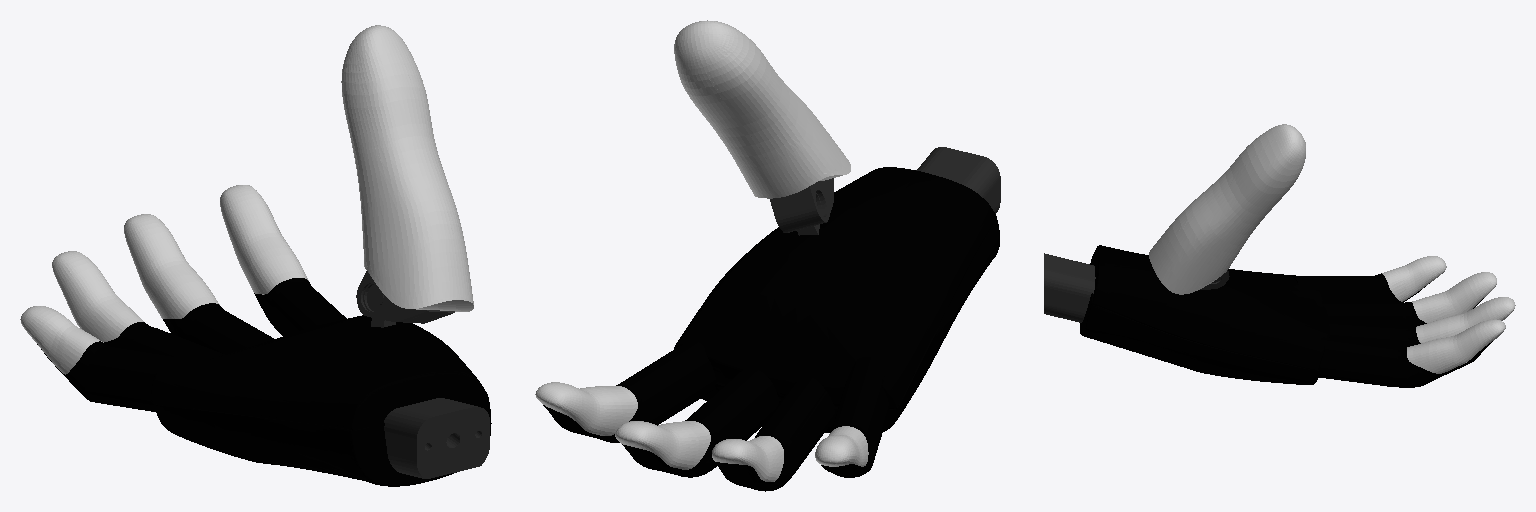
URDF robot description (mia_hand):
<?xml version="1.0"?>
<!-- created with Phobos 1.0.1 "Capricious Choutengan" -->
  <!-- model version="4.4.2"-->


  <robot xmlns:xacro="http://wiki.ros.org/xacro" name="mia_hand"
  xmlns:sensor="http://playerstage.sourceforge.net/gazebo/xmlschema/#sensor"
  xmlns:controller="http://playerstage.sourceforge.net/gazebo/xmlschema/#controller"
  xmlns:joint="http://playerstage.sourceforge.net/gazebo/xmlschema/#slider"
  xmlns:interface="http://playerstage.sourceforge.net/gazebo/xmlschema/#interface"
  xmlns:body="http://playerstage.sourceforge.net/gazebo/xmlschema/#body"
  xmlns:geom="http://playerstage.sourceforge.net/gazebo/xmlschema/#geom">


    <link name="index_fle">
      <inertial>
        <origin xyz="0 0 0" rpy="0 0 0"/>
        <mass value="0.01113"/>
        <inertia ixx="1.40e-06" ixy="1.58e-08" ixz="0" iyy="1.97e-07" iyz="2.27e-10" izz="1.36e-06"/>
      </inertial>
      <collision name="collision_index_pre_sensor">
        <origin xyz="0.000159719 0.023606986 0.001508433" rpy="1.611356378 -1.479902387 -0.009164433"/>
        <geometry>
          <cylinder radius="0.007128498" length="0.016970539"/>
        </geometry>
      </collision>
    </link>

    <link name="index_sensor">
      <inertial>
        <origin xyz="0 0 0" rpy="0 0 0"/>
        <mass value="0.01765"/>
        <inertia ixx="2.07e-05" ixy="4.28e-06" ixz="7.05e-09" iyy="1.71e-06" iyz="-5.40e-09" izz="2.19e-05"/>
      </inertial>
      <visual >
        <origin xyz="-0.016737008 -0.126896188 -0.051269896" rpy="0.457628608 -1.375251532 0.776470125"/>
        <geometry>
          <mesh filename="package://mia_hand_description/meshes/stl/index_finger.stl" scale="0.000999987 0.000999987 0.000999987"/>
        </geometry>
        <material name="BLACK"/>
      </visual>
      <visual >
        <origin xyz="-0.016737008 -0.126896188 -0.051269896" rpy="0.457628608 -1.375251532 0.776470125"/>
        <geometry>
          <mesh filename="package://mia_hand_description/meshes/stl/index_tip.stl" scale="0.000999987 0.000999987 0.000999987"/>
        </geometry>
        <material name="WHITE"/>
      </visual>
      <collision name="collision_index_distal">
        <origin xyz="-0.001899783 0.0412638 0.001381427" rpy="1.826135755 -1.502358675 0.115027599"/>
        <geometry>
          <cylinder radius="0.007957385" length="0.030371133"/>
        </geometry>
      </collision>
      <collision name="collision_index_post_sensor">
        <origin xyz="0.00270223 0.014599754 0.001277816" rpy="1.307256699 -1.502358675 0.115027107"/>
        <geometry>
          <cylinder radius="0.007128498" length="0.014262123"/>
        </geometry>
      </collision>
      <collision name="collision_index_tip">
        <origin xyz="-0.010449275 0.059659205 0.000670571" rpy="-0.714037061 -1.367512941 1.09491086"/>
        <geometry>
          <sphere radius="0.006627175"/>
        </geometry>
      </collision>
    </link>

    <link name="little_fle">
      <inertial>
        <origin xyz="-0.00155 0.020800009 -3.5793e-05" rpy="0 0 0"/>
        <mass value="0.0207"/>
        <inertia ixx="7.686e-06" ixy="0" ixz="0" iyy="6.52e-07" iyz="0" izz="7.9e-06"/>
      </inertial>
      <visual >
        <origin xyz="0.021798987 -0.079884358 -0.042128358" rpy="-0.088661931 -1.918641925 1.604480386"/>
        <geometry>
          <mesh filename="package://mia_hand_description/meshes/stl/little_finger.stl" scale="0.000999987 0.000999987 0.000999987"/>
        </geometry>
        <material name="BLACK"/>
      </visual>
      <visual >
        <origin xyz="0.021798987 -0.079884358 -0.042128358" rpy="-0.088661931 -1.918641925 1.604480386"/>
        <geometry>
          <mesh filename="package://mia_hand_description/meshes/stl/little_tip.stl" scale="0.000999987 0.000999987 0.000999987"/>
        </geometry>
        <material name="WHITE"/>
      </visual>
      <collision name="collision_little_distal">
        <origin xyz="-0.009071616 0.052363321 0.000405859" rpy="2.012047291 -1.547703743 0.014830198"/>
        <geometry>
          <cylinder radius="0.007603541" length="0.029933602"/>
        </geometry>
      </collision>
      <collision name="collision_little_proximal">
        <origin xyz="-0.001978738 0.027301736 -4.4674e-05" rpy="1.639323592 -1.540506959 -0.010816745"/>
        <geometry>
          <cylinder radius="0.007827824" length="0.030442052"/>
        </geometry>
      </collision>
      <collision name="collision_little_tip">
        <origin xyz="-0.016595591 0.064731956 -0.000363789" rpy="-1.135860085 -1.918640018 1.561329722"/>
        <geometry>
          <sphere radius="0.00484472"/>
        </geometry>
      </collision>
    </link>

    <link name="middle_fle">
      <inertial>
        <origin xyz="0 0 0" rpy="0 0 0"/>
        <mass value="0.0121"/>
        <inertia ixx="1.42e-06" ixy="-1.06e-08" ixz="2.02e-12" iyy="1.98e-07" iyz="2.27e-11" izz="1.3e-06"/>
      </inertial>
      <collision name="collision_middle_pre_sensor">
        <origin xyz="5.4862e-05 0.02009861 0.000735957" rpy="1.572342396 -1.570796132 0"/>
        <geometry>
          <cylinder radius="0.006834491" length="0.01782351"/>
        </geometry>
      </collision>
    </link>

    <link name="middle_sensor">
      <inertial>
        <origin xyz="0 0 0" rpy="0 0 0"/>
        <mass value="0.0177"/>
        <inertia ixx="2.07e-05" ixy="4.28e-06" ixz="7.05e-09" iyy="1.71e-06" iyz="-5.40e-08" izz="2.19e-05"/>
      </inertial>
      <visual>
        <origin xyz="0.007670809 -0.12344341 -0.045150004" rpy="1.396263361 -1.570796371 0"/>
        <geometry>
          <mesh filename="package://mia_hand_description/meshes/stl/middle_finger.stl" scale="0.000999987 0.000999987 0.000999987"/>
        </geometry>
        <material name="BLACK"/>
      </visual>
      <visual >
        <origin xyz="0.007670809 -0.12344341 -0.045150004" rpy="1.396263361 -1.570796371 0"/>
        <geometry>
          <mesh filename="package://mia_hand_description/meshes/stl/middle_tip.stl" scale="0.000999987 0.000999987 0.000999987"/>
        </geometry>
        <material name="WHITE"/>
      </visual>
      <collision name="collision_middle_distal">
        <origin xyz="-0.008653791 0.039425109 0.000735376" rpy="2.091221809 -1.570796371 0"/>
        <geometry>
          <cylinder radius="0.008127632" length="0.038238756"/>
        </geometry>
      </collision>
      <collision name="collision_middle_post_sensor">
        <origin xyz="-0.000414368 0.010920909 0.000735376" rpy="1.572342396 -1.570796371 0"/>
        <geometry>
          <cylinder radius="0.00683449" length="0.011829435"/>
        </geometry>
      </collision>
      <collision name="collision_middle_tip">
        <origin xyz="-0.020539736 0.056403738 0.000735376" rpy="0.525144994 -1.570796371 0"/>
        <geometry>
          <sphere radius="0.005627529"/>
        </geometry>
      </collision>
    </link>

    <link name="palm">
      <inertial>
        <origin xyz="0.00268 0.067100011 -0.015999995" rpy="0 0 0"/>
        <mass value="0.273999989"/>
        <inertia ixx="0.000301" ixy="0" ixz="0" iyy="0.00013" iyz="0" izz="0.000343"/>
      </inertial>
      <visual >
        <origin xyz="0.003035236 0.075372033 -0.025204176" rpy="-0.261799425 0 0"/>
        <geometry>
          <mesh filename="package://mia_hand_description/meshes/stl/dorsum_simple.stl" scale="0.076673768 0.104274787 0.076673768"/>
        </geometry>
        <material name="BLACK"/>
      </visual>
      <visual >
        <origin xyz="0.003800225 0.065974504 -0.012054901" rpy="-0.261799335 0 0"/>
        <geometry>
          <mesh filename="package://mia_hand_description/meshes/stl/palm_simple.stl" scale="0.122026987 0.122026987 0.122026987"/>
        </geometry>
        <material name="BLACK"/>
      </visual>
      <visual >
        <origin xyz="-0.039999999 0.015274569 -0.023892667" rpy="1.308997035 0 0"/>
        <geometry>
          <mesh filename="package://mia_hand_description/meshes/stl/wrist.stl" scale="0.000999999 0.000999999 0.000999999"/>
        </geometry>
        <material name="GREY"/>
      </visual>
      <collision name="collision_hand_distal">
        <origin xyz="0.000396326 0.095129304 -0.021126958" rpy="-0.260977566 0.024364362 0.046443645"/>
        <geometry>
          <box size="0.072641067 0.047533765 0.033261035"/>
        </geometry>
      </collision>
      <collision name="collision_hand_proximal">
        <origin xyz="0.001288421 0.04622658 -0.005689064" rpy="-0.265261889 -0.179528236 0.101421639"/>
        <geometry>
          <box size="0.062414549 0.056382477 0.028578509"/>
        </geometry>
      </collision>
    </link>

    <!-- end effector -->
    <link name="hand_ee_link">
      <inertial>
        <mass value="0.0"/>
        <origin rpy="0 0 0" xyz="0 0 0"/>
        <inertia ixx="0.0" ixy="0.0" ixz="0.0" iyy="0.0" iyz="0.0" izz="0.0"/>
      </inertial>
    </link>

    <joint name="palm_to_hand_ee_link" type="fixed">
        <origin xyz="0 0.13 0.03" rpy="-0.65 0 0"/>
      <parent link="palm"/>
      <child link="hand_ee_link"/>
    </joint>

    <link name="ring_fle">
      <inertial>
        <origin xyz="-0.001120002 0.026399991 0.000203993" rpy="0 0 0"/>
        <mass value="0.0263"/>
        <inertia ixx="1.577e-05" ixy="0" ixz="0" iyy="9.02e-07" iyz="0" izz="1.61e-05"/>
      </inertial>
      <visual >
        <origin xyz="0.01104607 -0.090066954 -0.043558836" rpy="1.65e-07 -1.745330095 1.413716316"/>
        <geometry>
          <mesh filename="package://mia_hand_description/meshes/stl/ring_finger.stl" scale="0.000999987 0.000999987 0.000999987"/>
        </geometry>
        <material name="BLACK"/>
      </visual>
      <visual >
        <origin xyz="0.01104607 -0.090066954 -0.043558836" rpy="1.65e-07 -1.745330095 1.413716316"/>
        <geometry>
          <mesh filename="package://mia_hand_description/meshes/stl/ring_tip.stl" scale="0.000999987 0.000999987 0.000999987"/>
        </geometry>
        <material name="WHITE"/>
      </visual>
      <collision name="collision_ring_distal">
        <origin xyz="-0.008521391 0.063275322 0.000219088" rpy="2.099160433 -1.578026533 0.020510485"/>
        <geometry>
          <cylinder radius="0.00760354" length="0.029933617"/>
        </geometry>
      </collision>
      <collision name="collision_ring_proximal">
        <origin xyz="0.001186912 0.028925091 0.000219103" rpy="1.570796132 -1.570796251 0"/>
        <geometry>
          <cylinder radius="0.007827824" length="0.03682825"/>
        </geometry>
      </collision>
      <collision name="collision_ring_tip">
        <origin xyz="-0.018231211 0.076642096 -0.000189718" rpy="-1.047197104 -1.745329261 1.570796132"/>
        <geometry>
          <sphere radius="0.004873112"/>
        </geometry>
      </collision>
    </link>

    <link name="thumb_fle">
      <inertial>
        <origin xyz="0.012771533 0.029501937 0.000170548" rpy="0 0 0"/>
        <mass value="0.0592"/>
        <inertia ixx="4e-05" ixy="1.3e-08" ixz="0" iyy="3e-06" iyz="4e-09" izz="4.1e-05"/>
      </inertial>
      <visual >
        <origin xyz="-0.003567816 -0.07197547 0.054485805" rpy="0.62849319 1.087863922 0.258483142"/>
        <geometry>
          <mesh filename="package://mia_hand_description/meshes/stl/thumb_cover.stl" scale="0.000999988 0.000999987 0.000999987"/>
        </geometry>
        <material name="WHITE"/>
      </visual>
      <visual >
        <origin xyz="-0.003567816 -0.07197547 0.054485805" rpy="0.62849319 1.087863922 0.258483142"/>
        <geometry>
          <mesh filename="package://mia_hand_description/meshes/stl/thumb_frame.stl" scale="0.000999988 0.000999987 0.000999987"/>
        </geometry>
        <material name="GREY"/>
      </visual>
      <collision name="collision_thumb_distal">
        <origin xyz="0.015668914 0.047384627 0.001403906" rpy="1.470562816 0.195132375 -0.047180746"/>
        <geometry>
          <cylinder radius="0.011694114" length="0.055018328"/>
        </geometry>
      </collision>
      <collision name="collision_thumb_proximal">
        <origin xyz="0.015613321 0.032607533 6.2179e-05" rpy="1.543844342 0.23866643 -0.080058314"/>
        <geometry>
          <cylinder radius="0.012714386" length="0.059818495"/>
        </geometry>
      </collision>
      <collision name="collision_thumb_tip">
        <origin xyz="0.015702201 0.069964014 -0.00075977" rpy="-0.3828291 0.583412647 0.648222387"/>
        <geometry>
          <sphere radius="0.010514786"/>
        </geometry>
      </collision>
    </link>

    <link name="thumb_opp">
      <inertial>
        <origin xyz="0.00026099 0.007620003 0.001220003" rpy="0 0 0"/>
        <mass value="0.013"/>
        <inertia ixx="1.12e-06" ixy="0" ixz="0" iyy="1.2e-07" iyz="0" izz="1.15e-06"/>
      </inertial>
      <visual >
        <origin xyz="-0.054523792 -0.04869514 0.027307283" rpy="-0.128456295 -0.364075422 0.324456483"/>
        <geometry>
          <mesh filename="package://mia_hand_description/meshes/stl/thumb_metacarpus.stl" scale="0.000999987 0.000999987 0.000999987"/>
        </geometry>
        <material name="GREY"/>
      </visual>
    </link>

    <link name="thumb_sensor">
      <inertial>
        <origin xyz="-1.5e-08 -9e-09 -4e-09" rpy="0 0 0"/>
        <mass value="0.000643"/>
        <inertia ixx="1.5e-08" ixy="0" ixz="0" iyy="8e-09" iyz="0" izz="1.5e-08"/>
      </inertial>
    </link>

    <joint name="j_index_fle" type="revolute">
      <origin xyz="0.026305504 0.11021702 -0.021520771" rpy="-0.596919358 1.415553689 -0.749806523"/>
      <parent link="palm"/>
      <child link="index_fle"/>
      <dynamics damping="0.1"/>
      <axis xyz="-6e-08 1.7e-08 0.99999994"/>
      <limit lower="-1.399999976" upper="1.399999976" effort="1.75" velocity="3.140000105"/>
    </joint>

    <joint name="j_index_sensor" type="fixed">
      <origin xyz="-0.000399255 0.024237007 -0.000183955" rpy="0.000630725 -0.000209123 0.172082633"/>
      <parent link="index_fle"/>
      <child link="index_sensor"/>
    </joint>

    <joint name="j_little_fle" type="revolute">
      <origin xyz="-0.027859999 0.107325219 -0.020605115" rpy="1.278342605 1.775918841 1.627186179"/>
      <parent link="palm"/>
      <child link="little_fle"/>
      <dynamics damping="0.1"/>
      <axis xyz="-6e-08 1.7e-08 1.0"/>
      <limit lower="0" upper="1.396260023" effort="1.75" velocity="3.140000105"/>
      <mimic joint="j_mrl_fle" multiplier="1" offset="0" /> <!-- to be manually added for Rviz -->
    </joint>

    <joint name="j_mrl_fle" type="revolute">
      <origin xyz="0.00514942 0.113555029 -0.024345273" rpy="-1.570794106 1.483529925 -1.570793986"/>
      <parent link="palm"/>
      <child link="middle_fle"/>
      <dynamics damping="0.1"/>
      <axis xyz="-6e-08 1.7e-08 0.99999994"/>
      <limit lower="0" upper="1.396260023" effort="1.75" velocity="3.140000105"/>
    </joint>

    <joint name="j_middle_sensor" type="fixed">
      <origin xyz="0.000444004 0.025497464 5.81e-07" rpy="1.8e-08 2.07e-07 -3e-08"/>
      <parent link="middle_fle"/>
      <child link="middle_sensor"/>
    </joint>

    <joint name="j_ring_fle" type="revolute">
      <origin xyz="-0.012250358 0.112028912 -0.023936352" rpy="1.150808096 1.681244493 1.321779966"/>
      <parent link="palm"/>
      <child link="ring_fle"/>
      <dynamics damping="0.1"/>
      <axis xyz="-6e-08 1.7e-08 1.0"/>
      <limit lower="0" upper="1.396260023" effort="1.75" velocity="3.140000105"/>
      <mimic joint="j_mrl_fle" multiplier="1" offset="0" /> <!-- to be manually added for Rviz -->
    </joint>

    <joint name="j_thumb_fle" type="revolute">
      <origin xyz="-2.7426e-05 -1.0543e-05 -0.008989788" rpy="-1.570910335 0.438224047 1.570665002"/>
      <parent link="thumb_sensor"/>
      <child link="thumb_fle"/>
      <dynamics damping="0.1"/>
      <axis xyz="-6e-08 1.7e-08 1.0"/>
      <limit lower="0" upper="1.134500027" effort="3.5" velocity="1.570000052"/>
    </joint>

    <joint name="j_thumb_opp" type="revolute">
      <origin xyz="0.013073999 0.068108179 -0.001949422" rpy="1.43719089 0.369162768 0.318591952"/>
      <parent link="palm"/>
      <child link="thumb_opp"/>
      <dynamics damping="0.2"/>
      <axis xyz="-6e-08 1.7e-08 1.0"/>
      <limit lower="-0.628318548" upper="0" effort="3.5" velocity="4.0"/>
    </joint>

    <joint name="j_thumb_sensor" type="fixed">
      <origin xyz="-5.942e-06 0.008997655 2.453e-06" rpy="1.570796371 1.01e-07 -1.19e-07"/>
      <parent link="thumb_opp"/>
      <child link="thumb_sensor"/>
    </joint>

    <material name="BLACK">
      <color rgba="0.015019833 0.015019833 0.015019833 1.0"/>
    </material>


    <material name="GREY">
      <color rgba="0.202126482 0.202126482 0.202126482 1.0"/>
    </material>

    <material name="WHITE">
      <color rgba="0.800000012 0.800000012 0.800000012 1.0"/>
    </material>

  </robot>

--- Facts derived from the render (not from the file) ---
3 views of the same robot in one strip: view 1: azimuth 30°, elevation 25°; view 2: azimuth 150°, elevation 25°; view 3: azimuth 270°, elevation 25° (orthographic).
Model mia_hand with 11 links and 10 joints (6 revolute, 4 fixed), rooted at palm, posed every joint at zero.
Visible links, largest first — view 1: palm, thumb_fle, middle_sensor, index_sensor, little_fle, ring_fle; view 2: palm, thumb_fle, index_sensor, middle_sensor, ring_fle, little_fle; view 3: palm, thumb_fle, index_sensor, ring_fle, little_fle, middle_sensor.
Boxes of the visible links, <box> form: palm: <box>151,315,491,486</box>; thumb_fle: <box>341,25,473,323</box>; middle_sensor: <box>124,214,273,354</box>; index_sensor: <box>220,185,346,335</box>; little_fle: <box>20,306,204,411</box>; ring_fle: <box>52,251,224,360</box>; palm: <box>674,147,1000,432</box>; thumb_fle: <box>674,20,850,232</box>; index_sensor: <box>535,341,716,442</box>; middle_sensor: <box>615,369,779,477</box>; ring_fle: <box>712,377,834,491</box>; little_fle: <box>815,357,888,477</box>; palm: <box>1044,245,1329,384</box>; thumb_fle: <box>1149,124,1305,294</box>; index_sensor: <box>1317,319,1505,387</box>; ring_fle: <box>1322,272,1496,326</box>; little_fle: <box>1292,256,1446,302</box>; middle_sensor: <box>1328,297,1515,346</box>.
Size in the robot's own frame: 0.1005 by 0.2043 by 0.1278 metres.
14 mesh visuals loaded from 14 distinct referenced files (14 binary STL).
